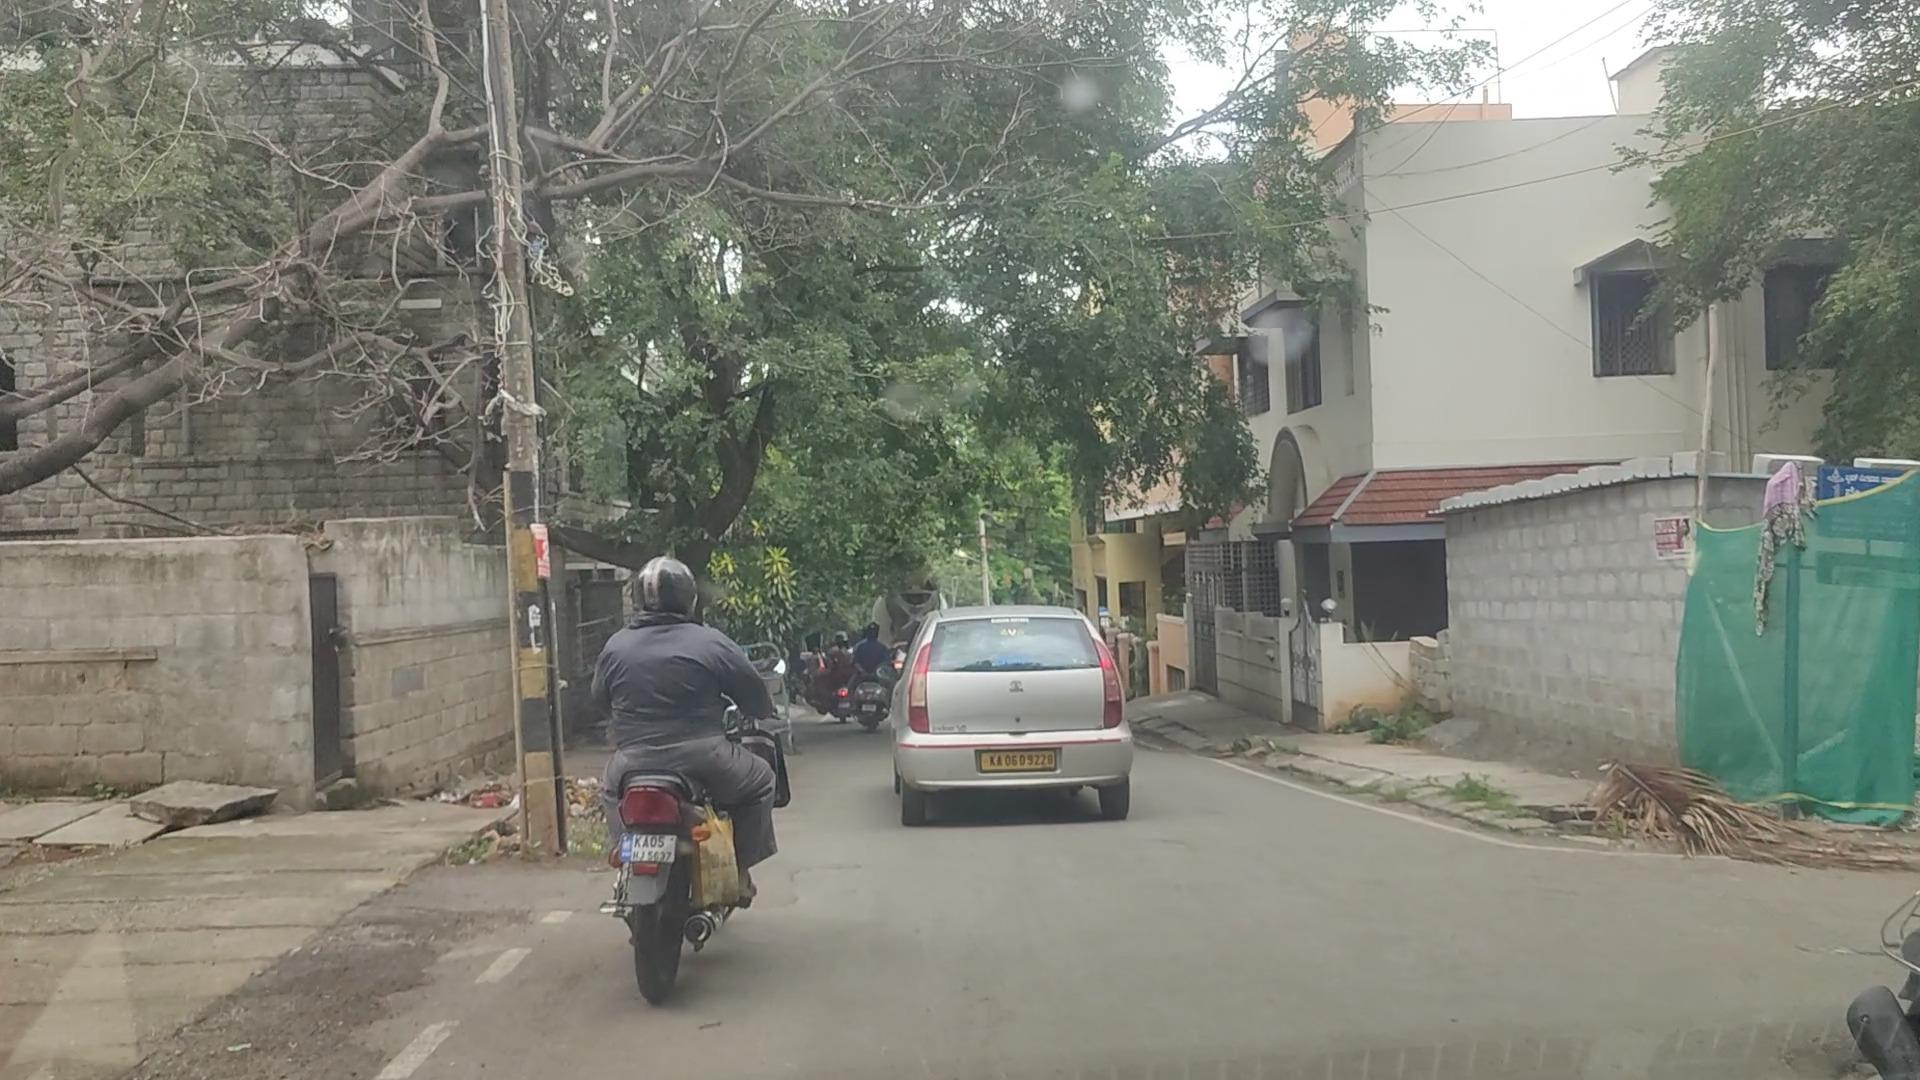LMV: (563, 542, 777, 1009), (876, 604, 1146, 836)
